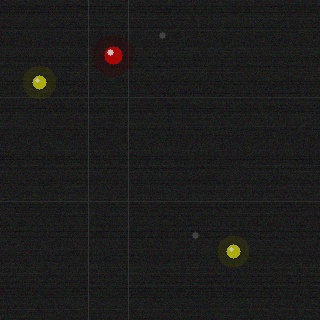red_fault: (102, 44, 124, 66)
yellow_warning: (224, 242, 242, 260), (30, 73, 48, 91)
